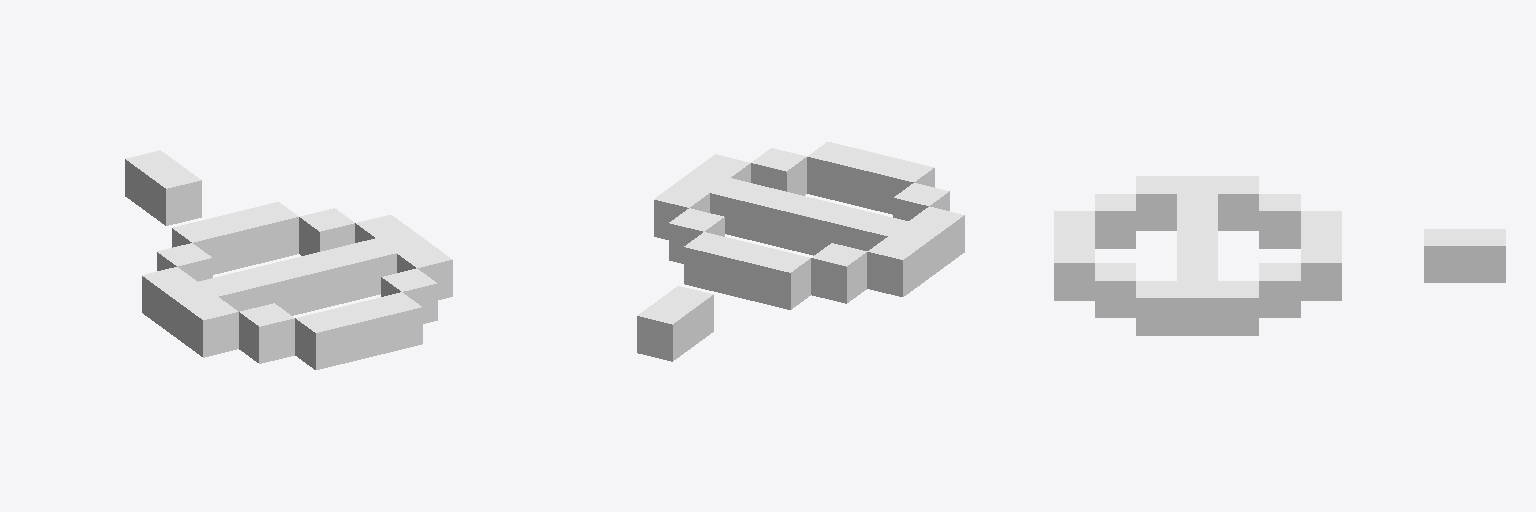
Rendered from DoubleHealth.obj.
The picture shows the model from 3 angles: view 1: azimuth 30°, elevation 25°; view 2: azimuth 150°, elevation 25°; view 3: azimuth 270°, elevation 25°; orthographic projection.
Parts seen in each view (by area): view 1: object 1; view 2: object 1; view 3: object 1.
Boxes of the visible parts, box(x1,y1,x2,y2) form: object 1: box(125, 150, 452, 369); object 1: box(637, 142, 964, 361); object 1: box(1054, 176, 1505, 335).
Size of the model in its own units: 0.7 by 0.1 by 1.1.